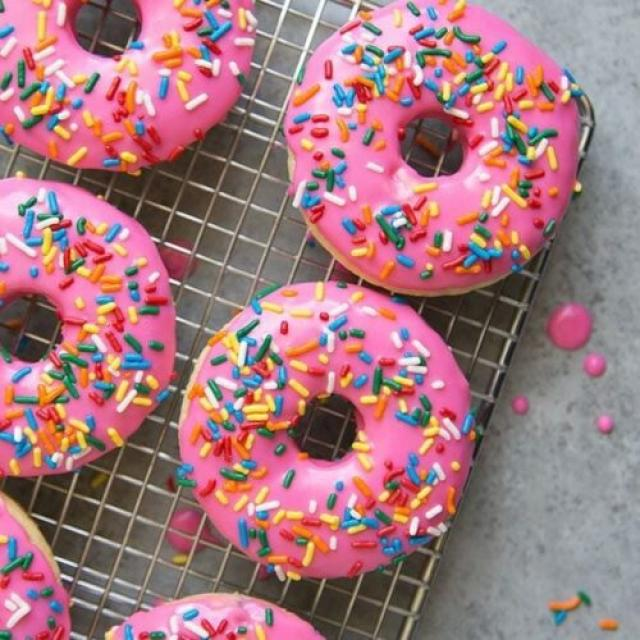donut: (176, 280, 480, 583), (281, 0, 581, 296), (0, 176, 176, 480), (0, 0, 256, 173)
